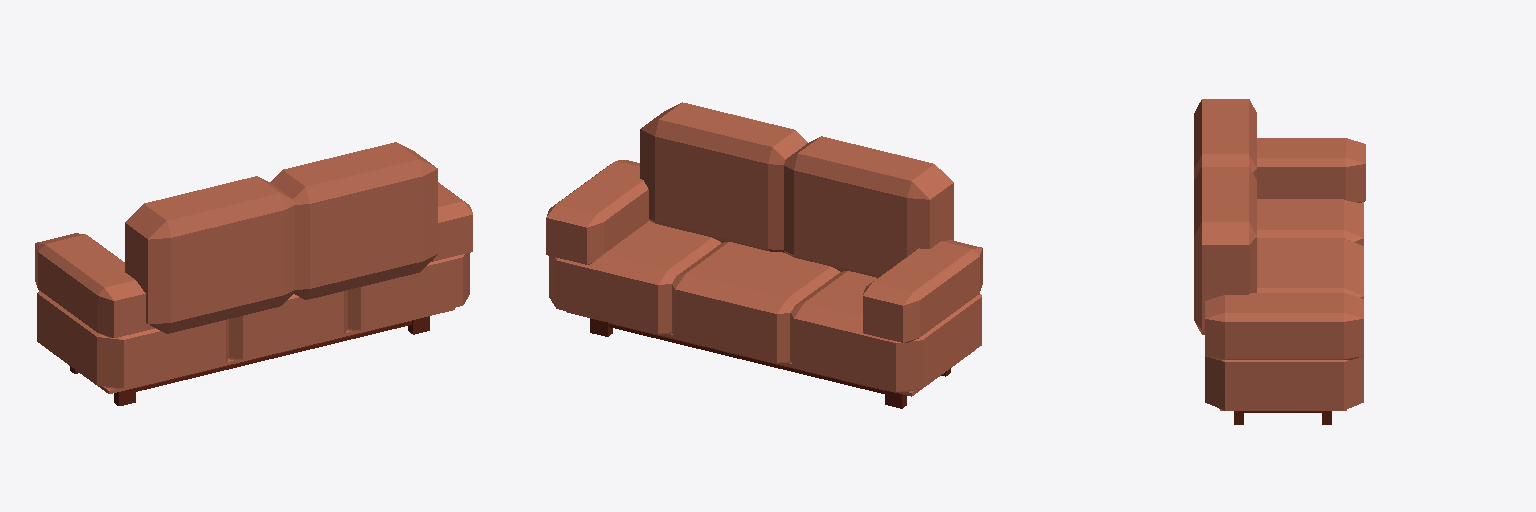
The model's file is Couch1.obj.
3 views of the same model, side by side, from view 1: azimuth 30°, elevation 25°; view 2: azimuth 150°, elevation 25°; view 3: azimuth 270°, elevation 25° (orthographic).
Parts seen in each view (by area): view 1: mergedBlocks; view 2: mergedBlocks; view 3: mergedBlocks.
Part boxes in pixels (x1,y1,x2,y2): mergedBlocks: (35, 142, 472, 405); mergedBlocks: (546, 102, 982, 408); mergedBlocks: (1194, 99, 1365, 424).
Size of the model in its own units: 2.2 by 1.07 by 0.875.